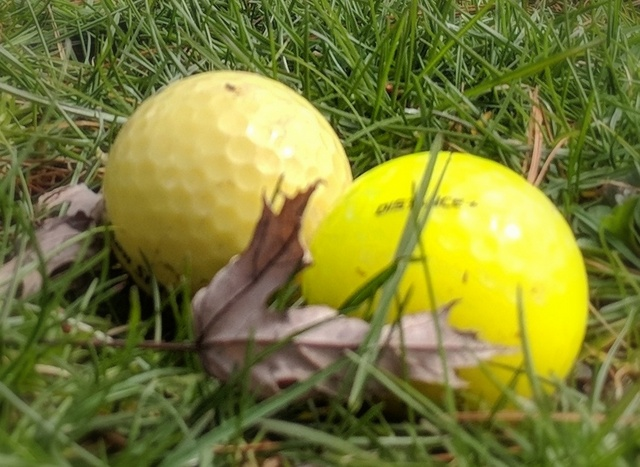ball: (305, 148, 590, 416)
